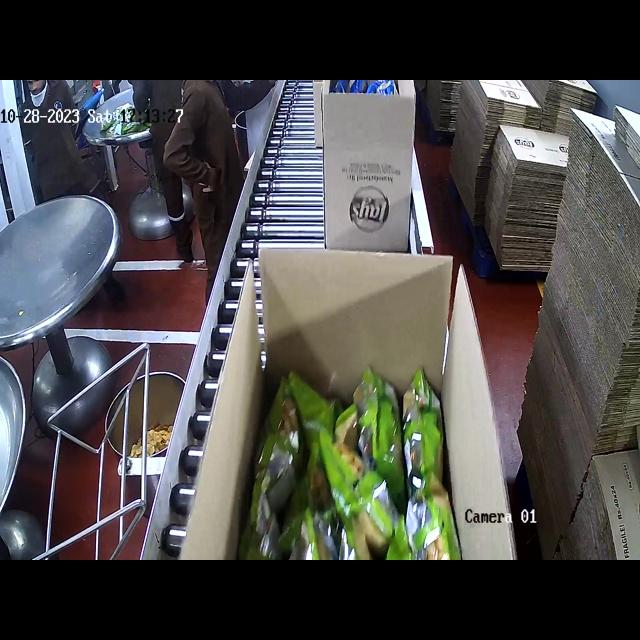yogurt: (274, 365, 437, 560)
